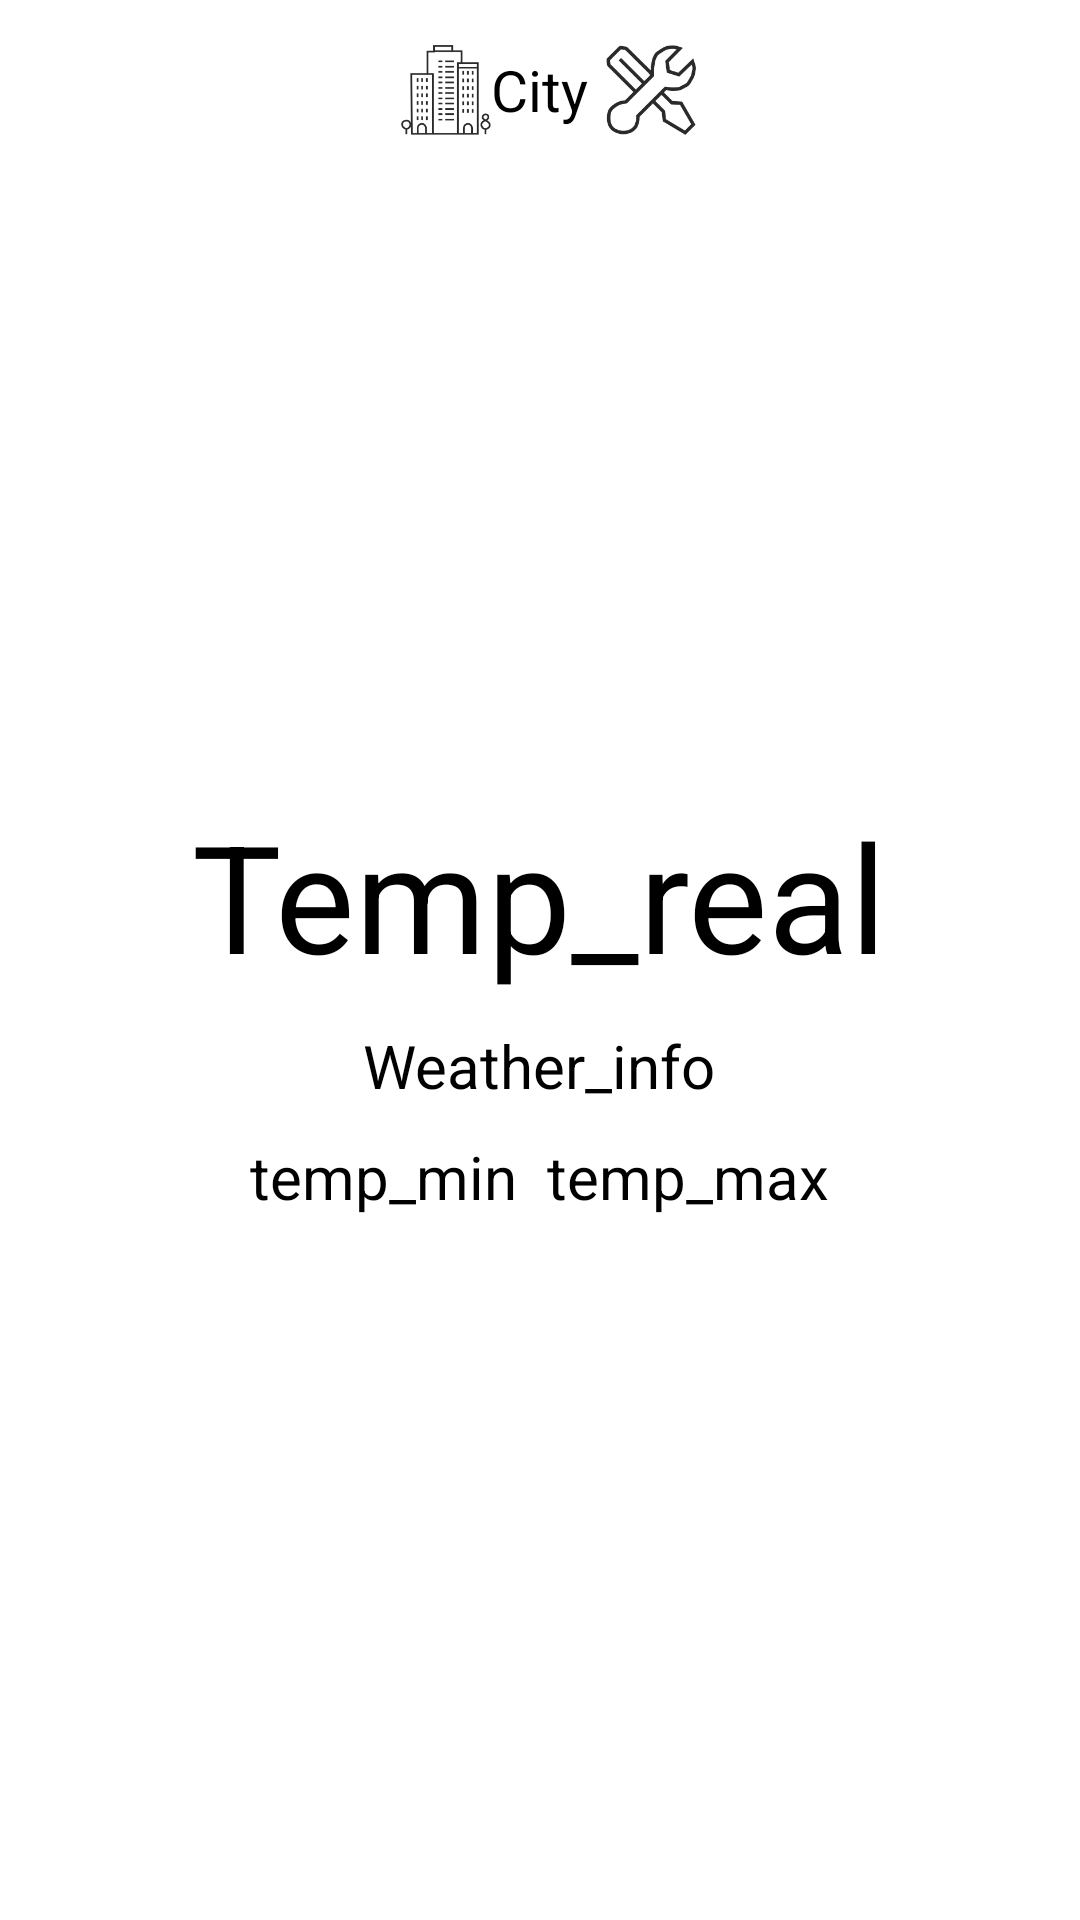

Named icons in this screenshot (1080 x 1920) and their centers, (x=x, y=y):
mecanic: (x=651, y=90)
town: (x=446, y=90)
